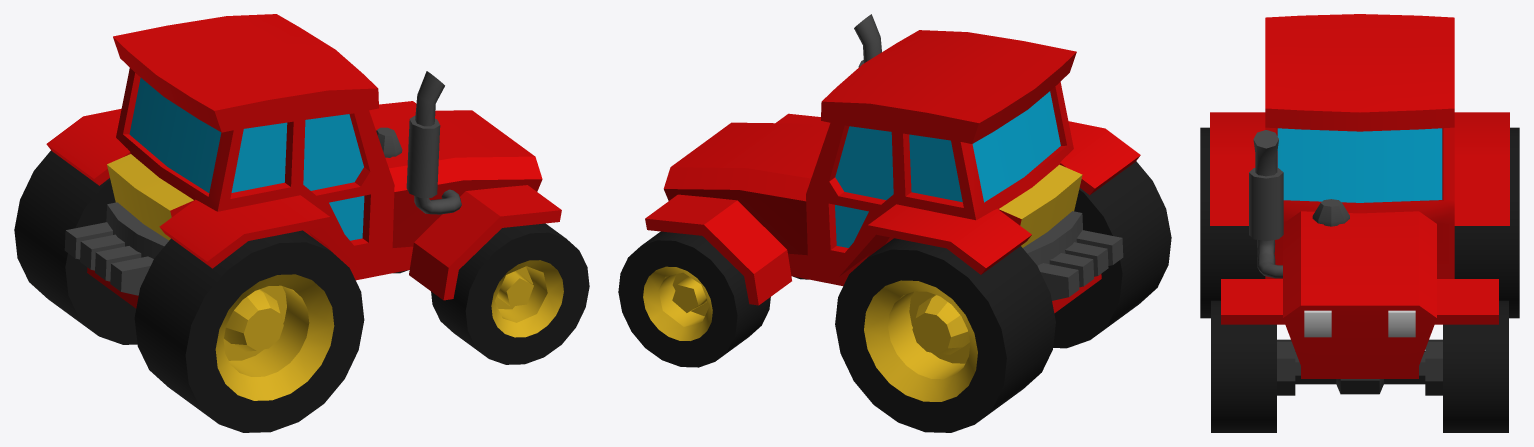
Rendered from Tractor.glb.
3 views of the same model, side by side, from view 1: azimuth 30°, elevation 25°; view 2: azimuth 150°, elevation 25°; view 3: azimuth 270°, elevation 25° (orthographic). The views are drawn at different scales.
Visible parts, largest first — view 1: Tractor; view 2: Tractor; view 3: Tractor.
Boxes of the visible parts, x1,y1,x2,y2 form: Tractor: [14, 14, 589, 432]; Tractor: [618, 14, 1171, 432]; Tractor: [1200, 14, 1519, 432].
Bounding box in the file's own units: 1.45 × 1 × 1.03.
